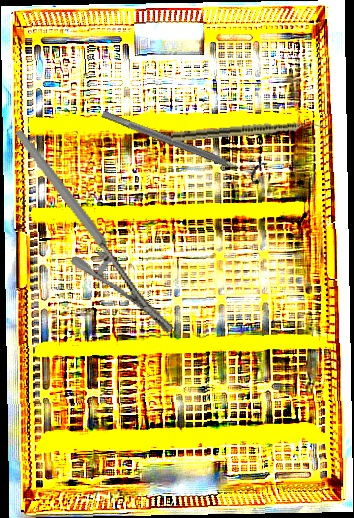Fixation Ring: (98, 101, 267, 187)
Handpiece: (170, 118, 325, 144)
Needle Holder: (15, 103, 175, 359)
